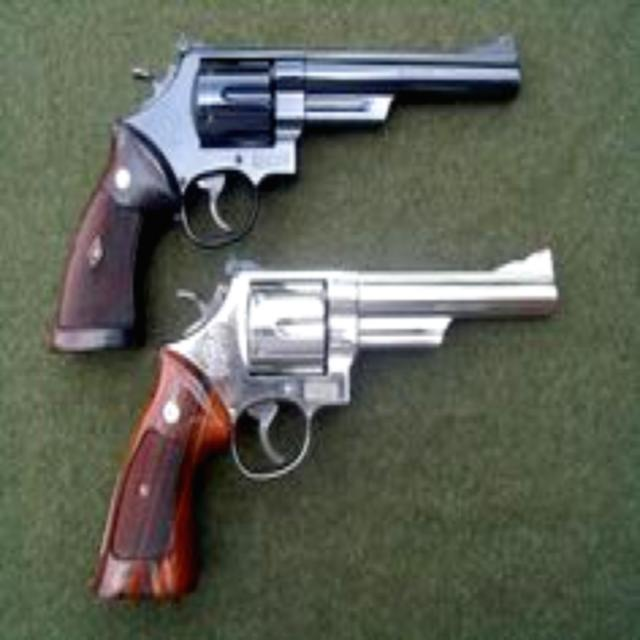revolver: (79, 236, 618, 640)
